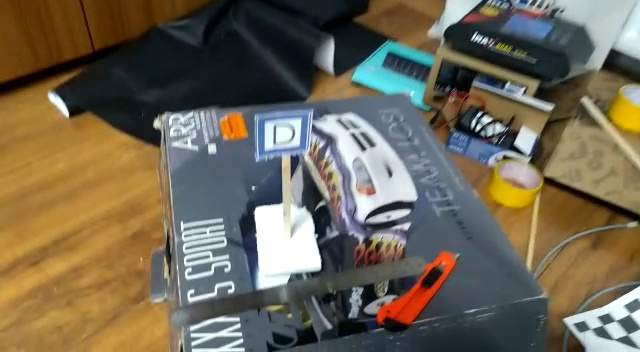durak: (252, 106, 310, 162)
